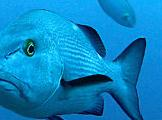Lutjanidae -Snappers-: (0, 3, 148, 120)
